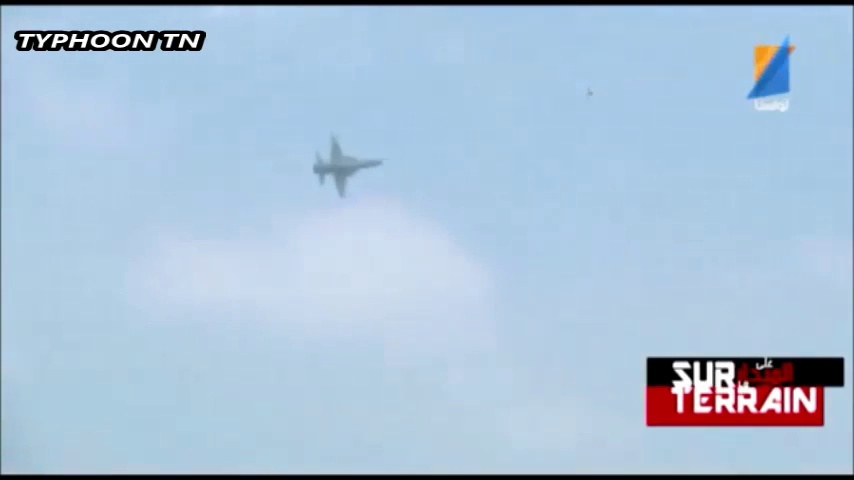Airplane: (312, 130, 382, 198)
